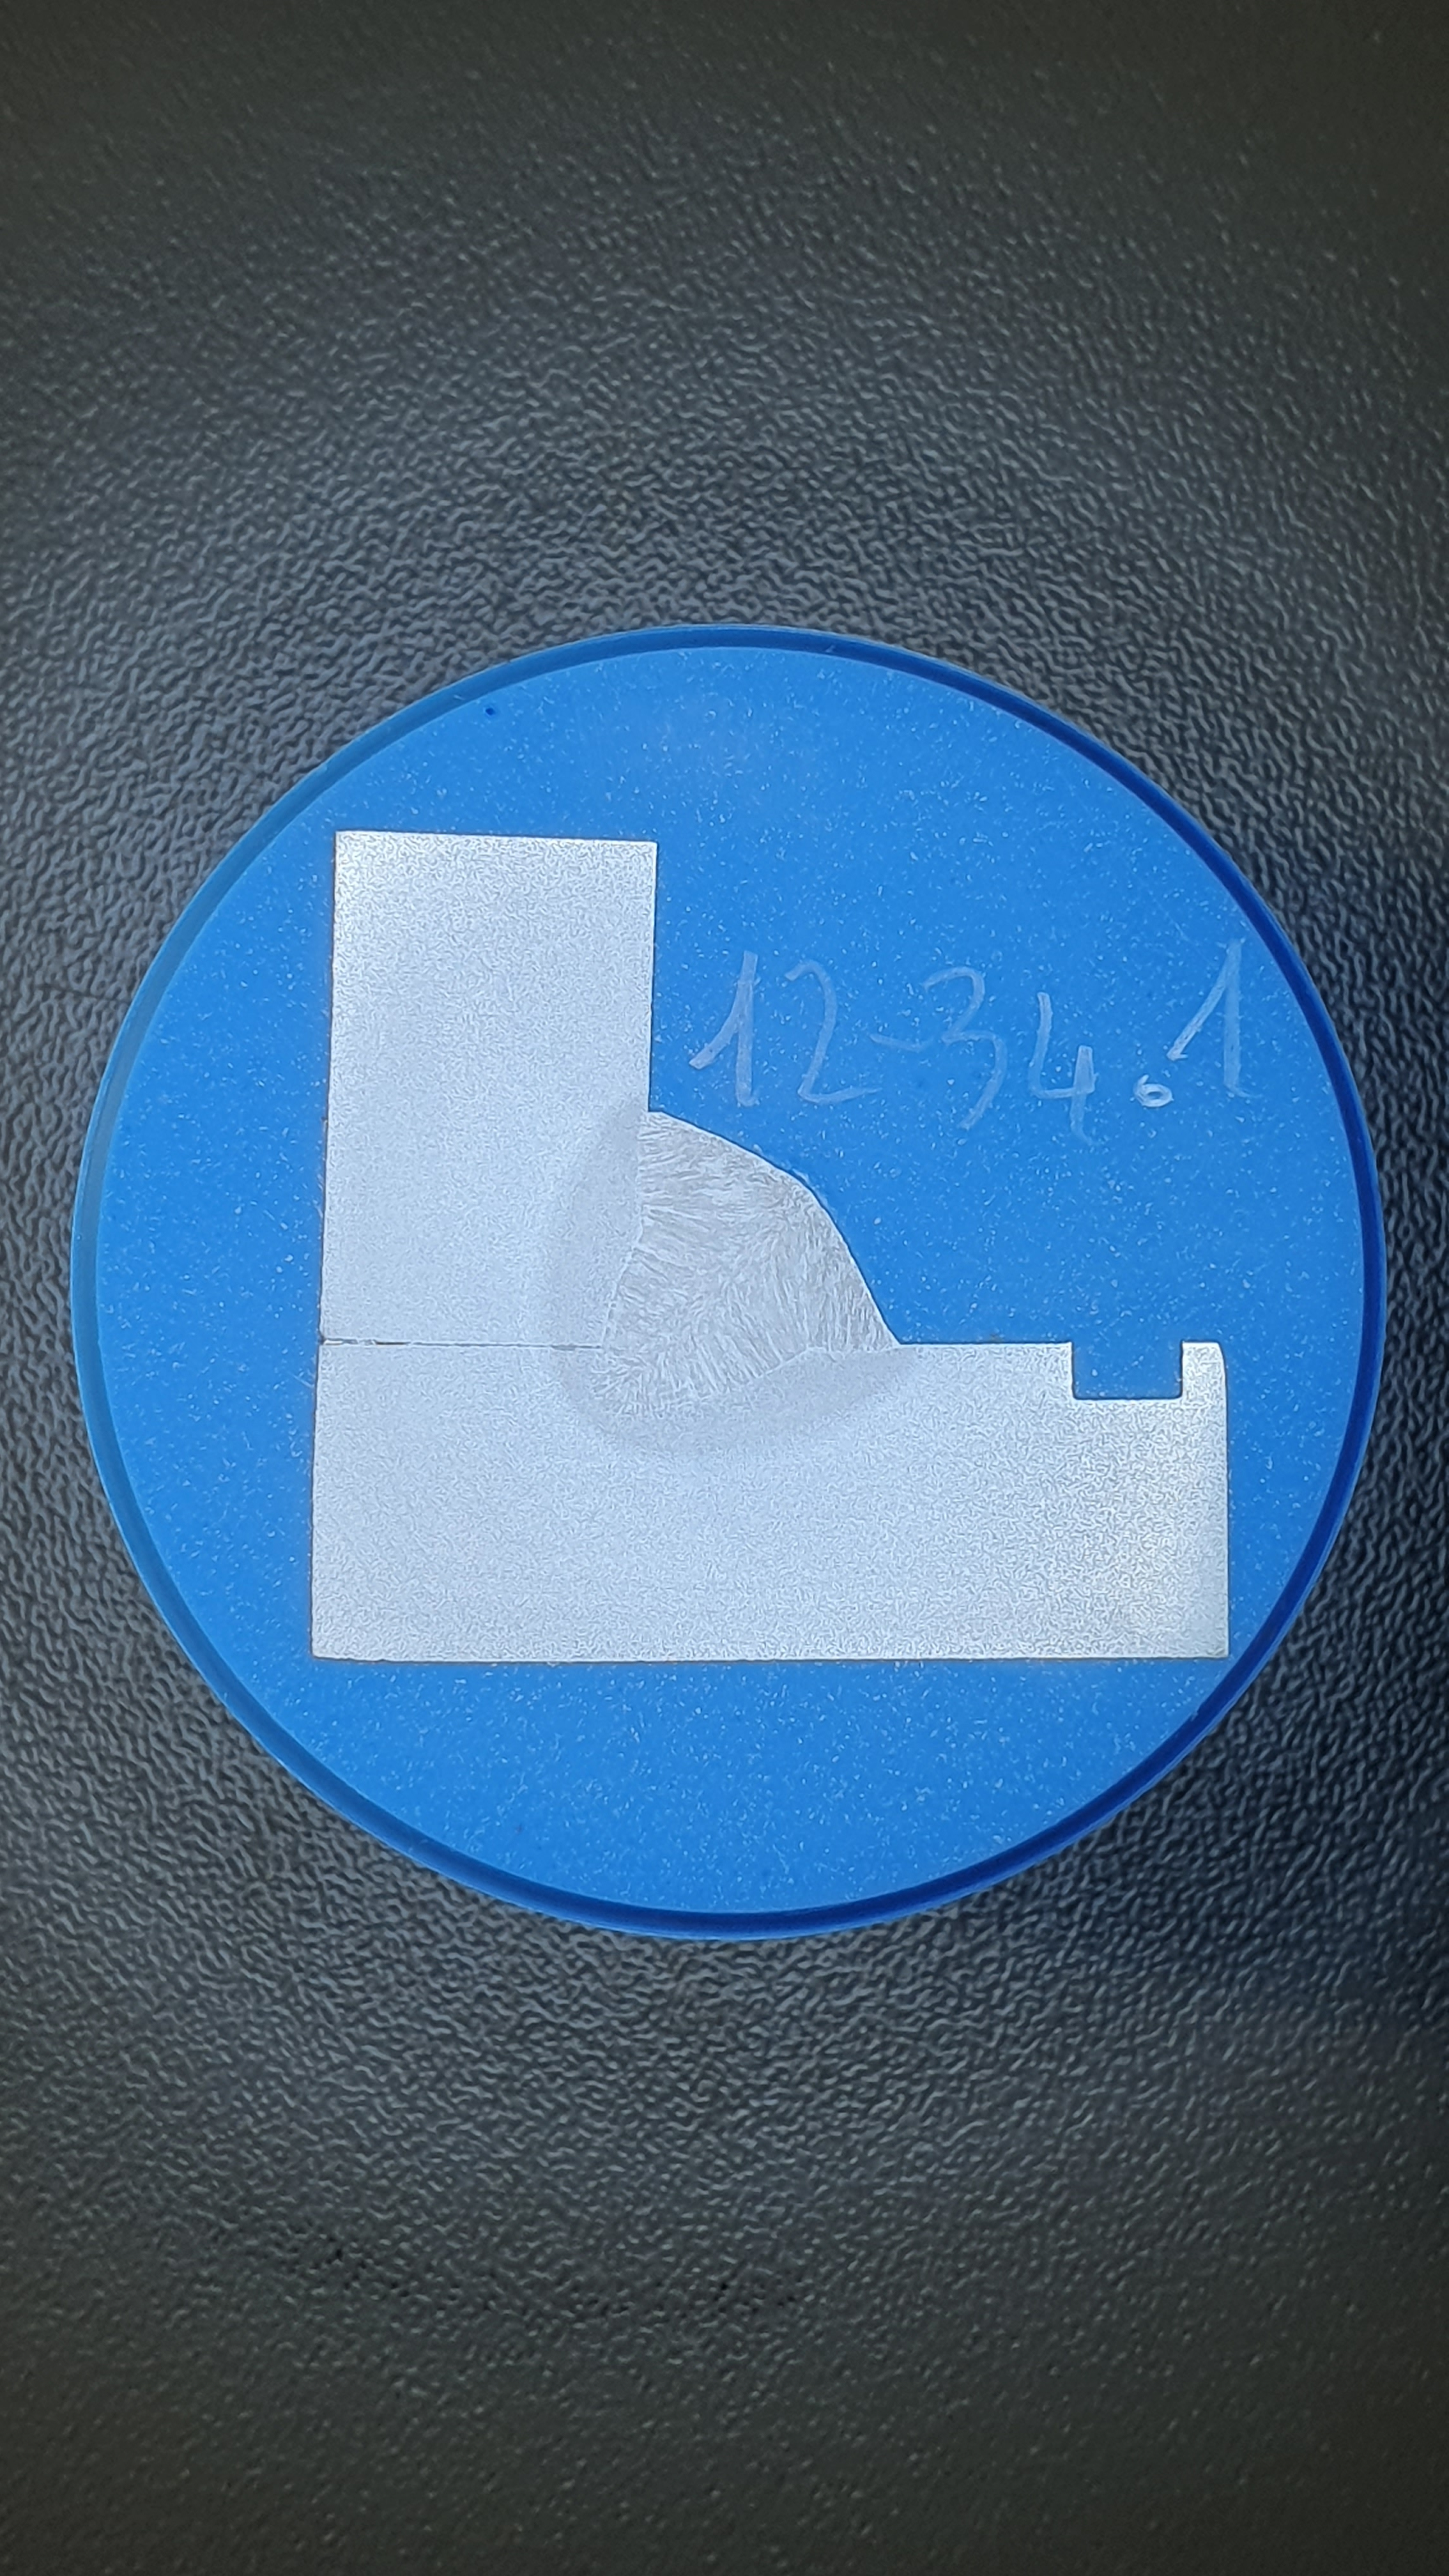Fusion: (588, 1112, 900, 1415)
Hintergrund: (95, 648, 1368, 1911)
Metall: (310, 829, 1229, 1663)
Nebenbereich: (533, 1083, 921, 1462)
